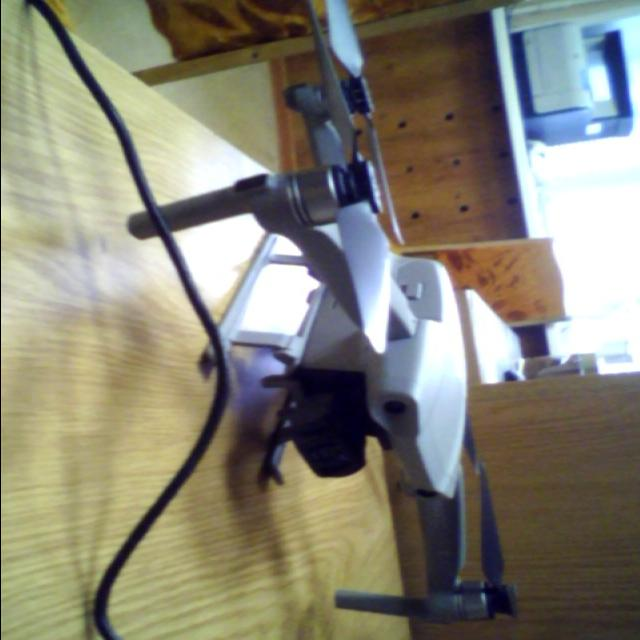drone: (131, 0, 530, 640)
